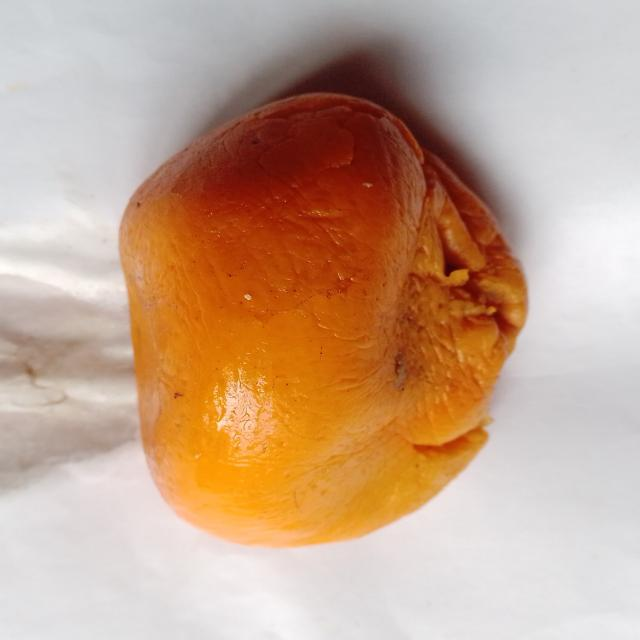orange: (121, 94, 525, 546)
